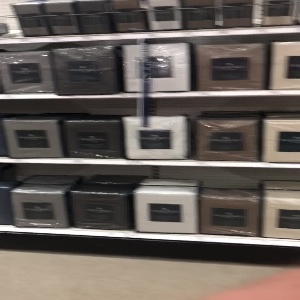void: (1, 2, 23, 41)
